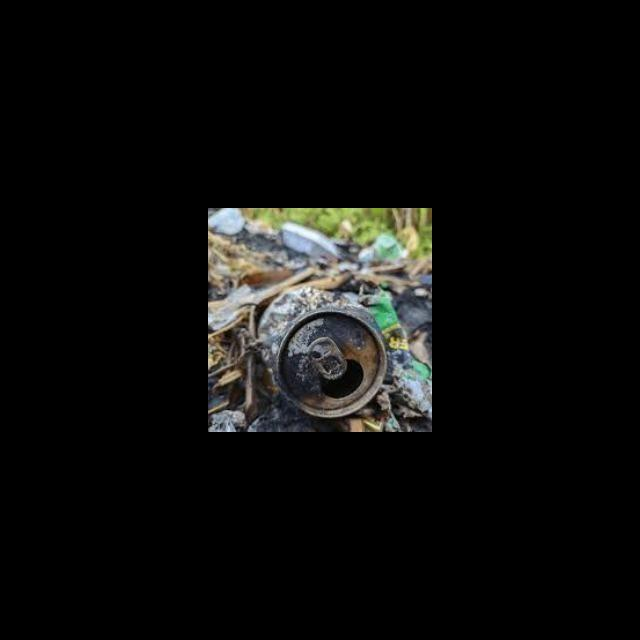metal: (247, 283, 391, 422)
